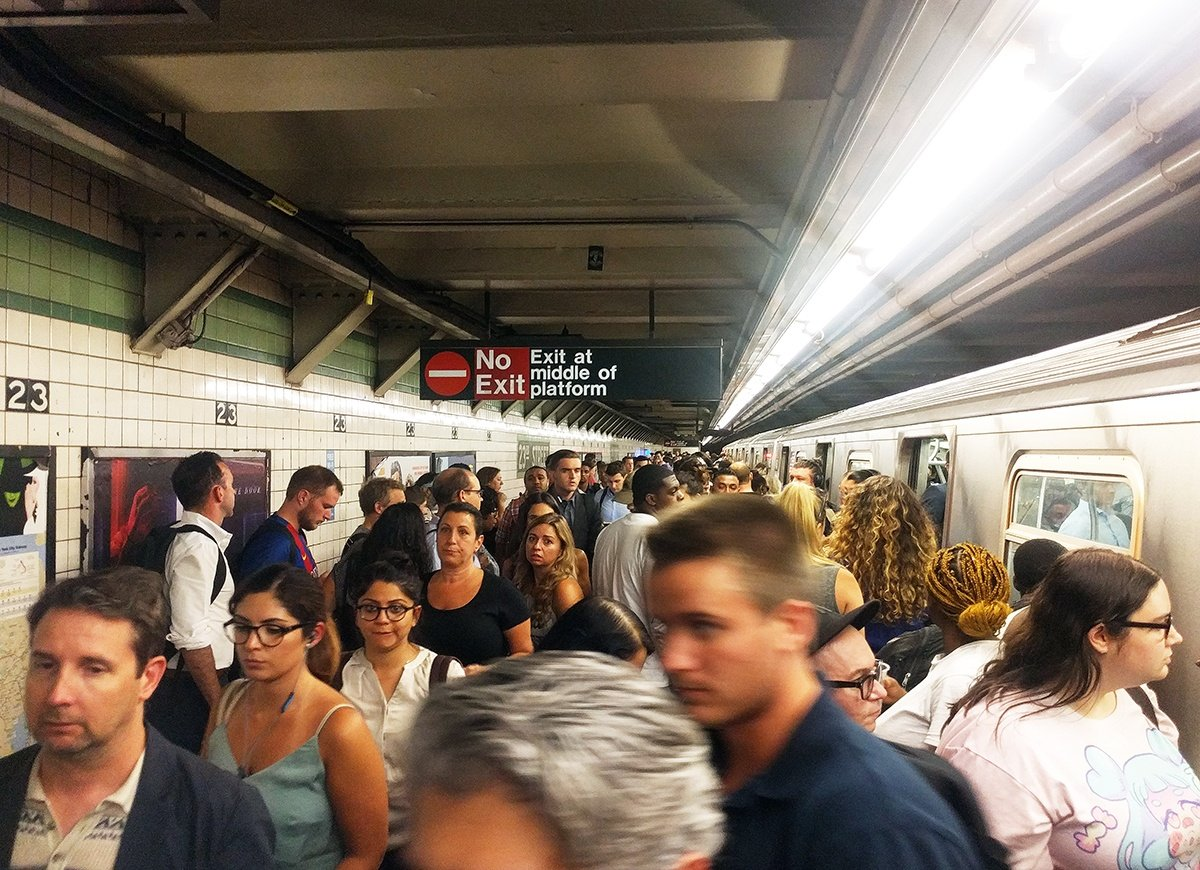without_mask: (29, 622, 129, 751), (1127, 581, 1185, 688), (231, 603, 295, 677), (357, 589, 409, 644), (433, 510, 475, 567), (306, 479, 337, 537), (524, 526, 558, 565), (555, 458, 582, 494)
